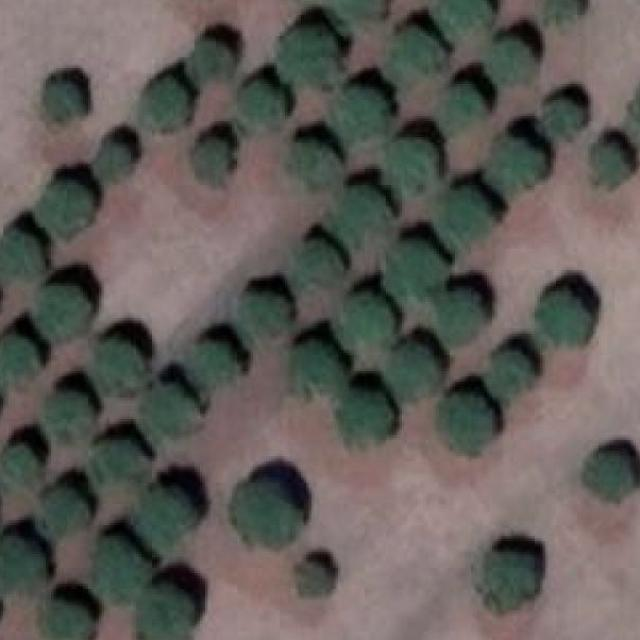Tree: (230, 483, 298, 544), (140, 488, 197, 552), (383, 241, 444, 298), (486, 134, 542, 196), (35, 183, 94, 241), (280, 31, 338, 89), (480, 552, 537, 610), (94, 538, 146, 600), (439, 392, 490, 454), (436, 190, 489, 249), (383, 137, 436, 196), (338, 188, 391, 245), (141, 387, 203, 435), (94, 339, 146, 396), (338, 294, 391, 348), (388, 348, 439, 404), (537, 289, 590, 342), (136, 587, 189, 640), (338, 392, 389, 446), (290, 344, 341, 398), (391, 29, 442, 82), (37, 286, 88, 339), (290, 240, 341, 292), (333, 90, 386, 140), (0, 539, 46, 595), (582, 454, 634, 502), (42, 392, 94, 440), (92, 443, 149, 486), (439, 84, 487, 135), (487, 40, 538, 88), (431, 0, 490, 39), (192, 342, 242, 388), (0, 230, 46, 280), (489, 350, 532, 401), (439, 292, 482, 342), (241, 291, 287, 337), (46, 599, 97, 640), (0, 334, 41, 385), (43, 488, 88, 534), (239, 82, 282, 130), (0, 442, 39, 493), (292, 143, 335, 188), (143, 82, 184, 124), (542, 100, 583, 137), (592, 142, 627, 185), (194, 140, 228, 183), (191, 42, 232, 76), (44, 82, 80, 114), (96, 142, 130, 174), (298, 562, 330, 594), (333, 0, 384, 18), (545, 0, 580, 23), (628, 86, 640, 143)
